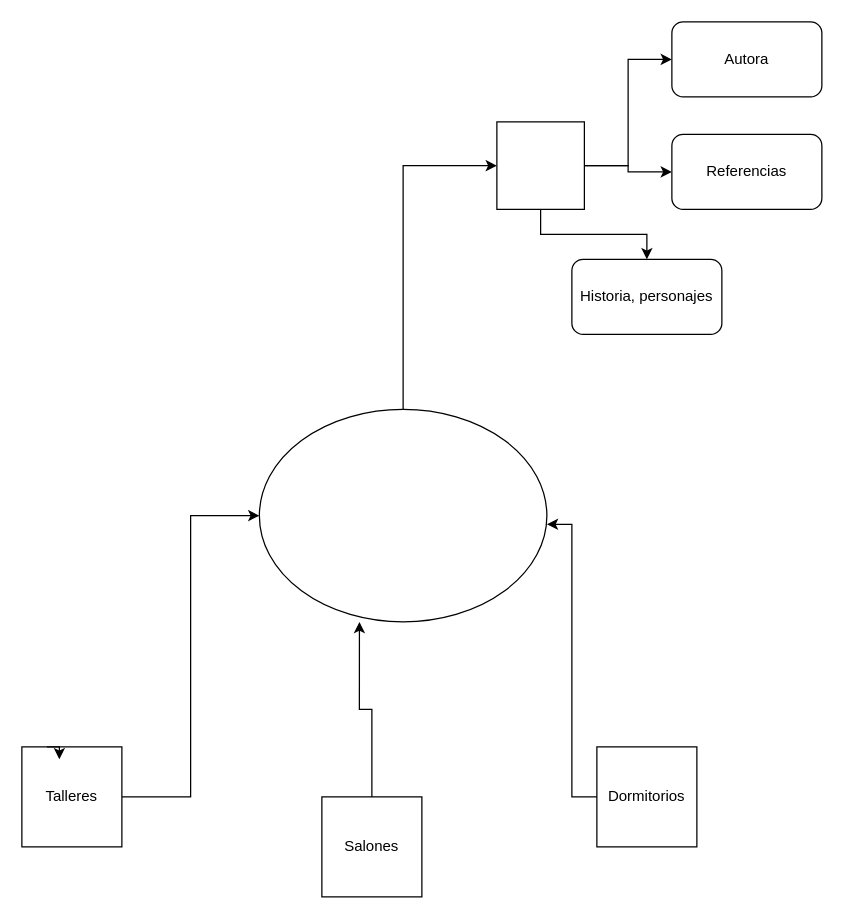
This 844x919 diagram has some shape labels left out. The centre of each missing label's shape, as x and y in pixels:
"Alumnos" belongs at pixel 402 515.
"meta informacion" belongs at pixel 540 165.
